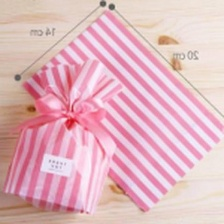snack: (0, 52, 130, 220)
